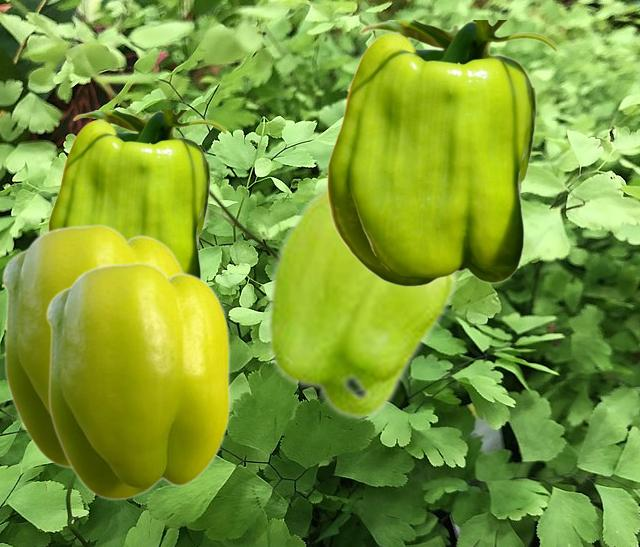bell_pepper: (326, 20, 557, 286), (264, 180, 463, 420), (1, 223, 184, 467), (45, 261, 229, 499), (47, 110, 226, 277)
